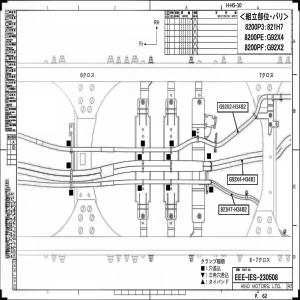PartNumber: (219, 103, 247, 110), (229, 176, 256, 183), (220, 206, 247, 213)
